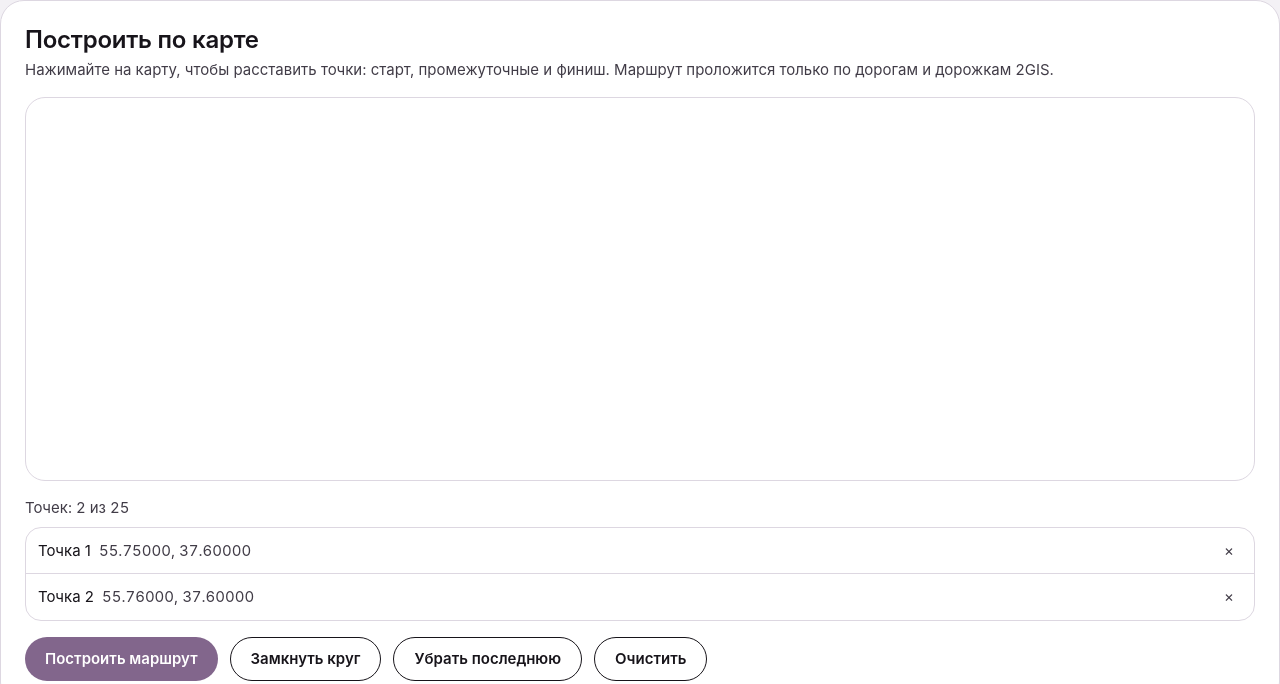
RouteBuilder › closes the loop by repeating the first point at the end
Step 1. Click the button "Замкнуть круг" → click(306, 659), box [230, 637, 381, 681]
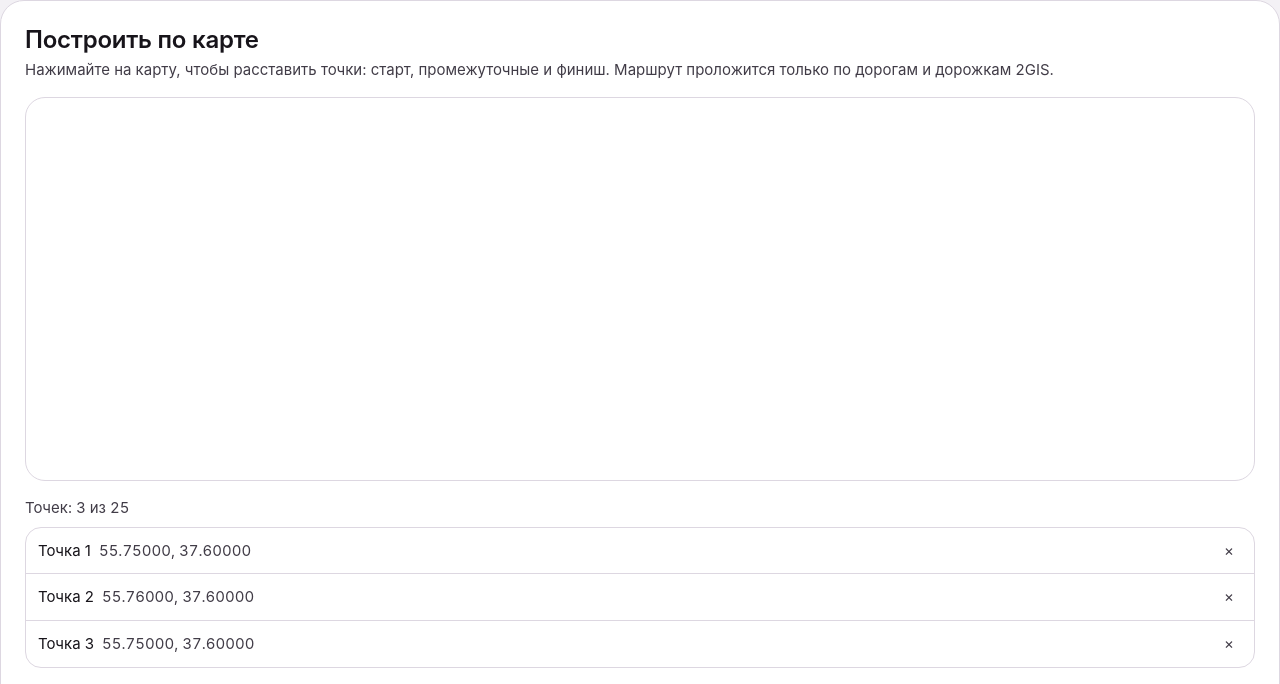
Now the text "Точка 3" is shown, box [38, 634, 94, 653]
Now the text "55.75000, 37.60000" is shown 2 times, box [99, 540, 251, 560]; [102, 634, 254, 653]
